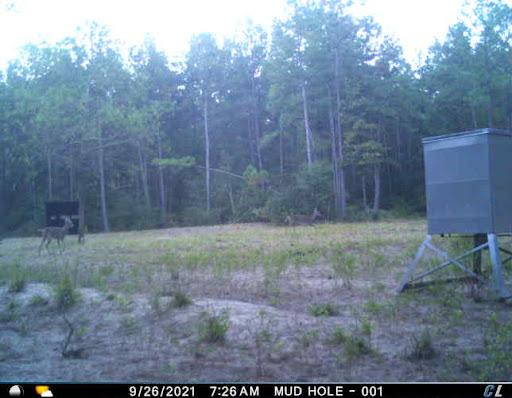Deer: (30, 210, 82, 262)
